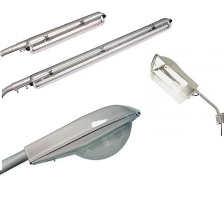light_bulb: (28, 14, 174, 93), (33, 104, 151, 173), (23, 8, 112, 57), (148, 48, 202, 109)
